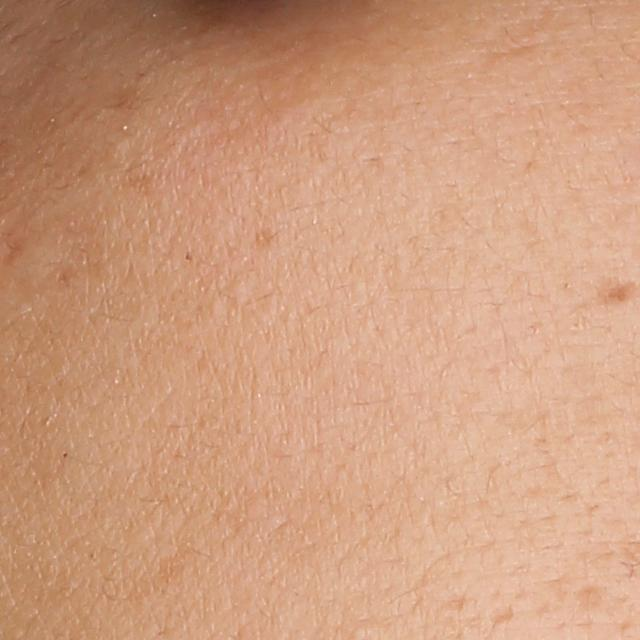atrophic_scar: (572, 581, 611, 621), (488, 601, 513, 624)
